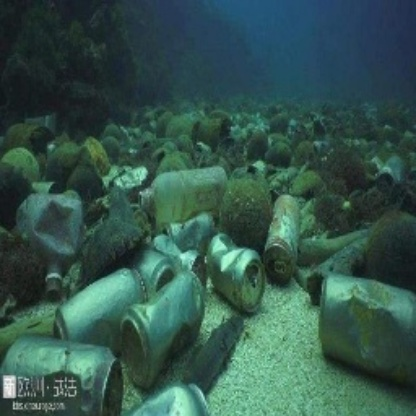bottle: (317, 263, 416, 386), (121, 267, 214, 385), (133, 164, 230, 224), (264, 191, 304, 283)
